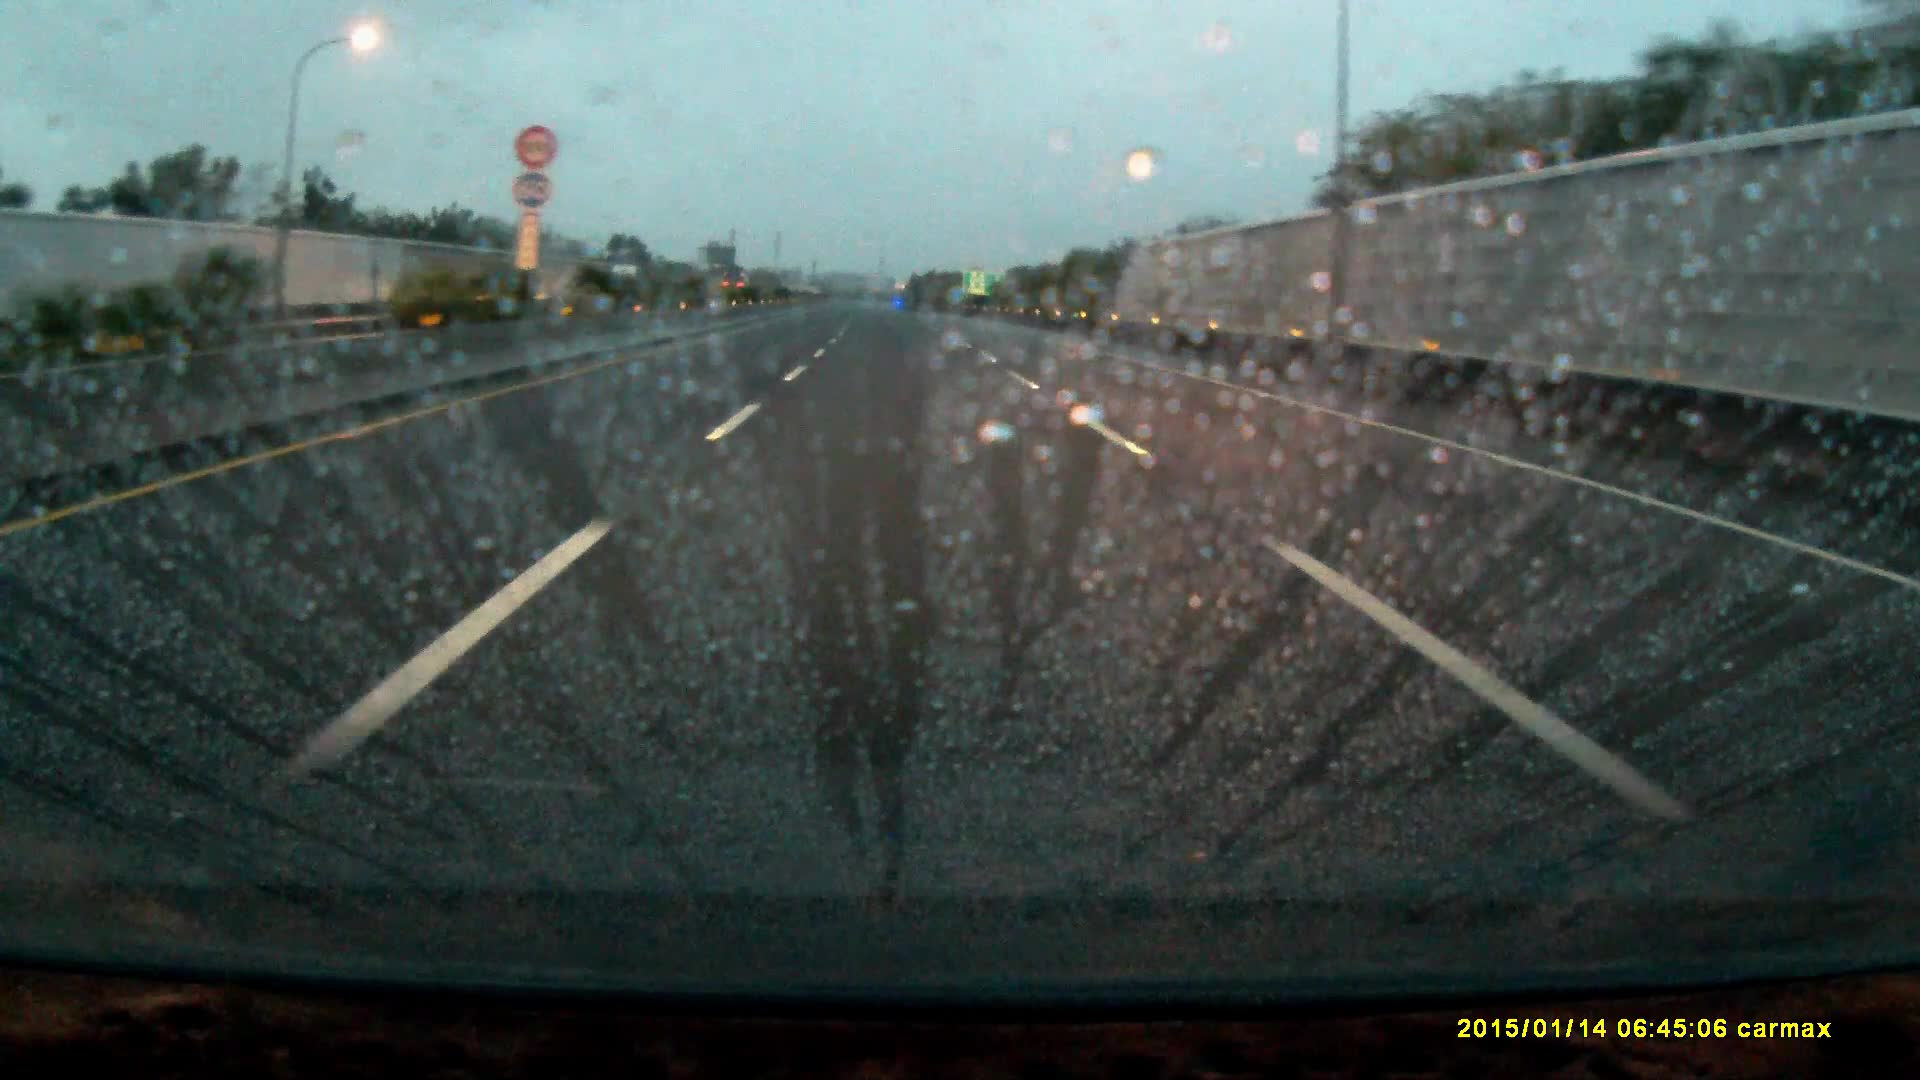vehicle: (611, 266, 649, 301), (723, 280, 756, 307)
